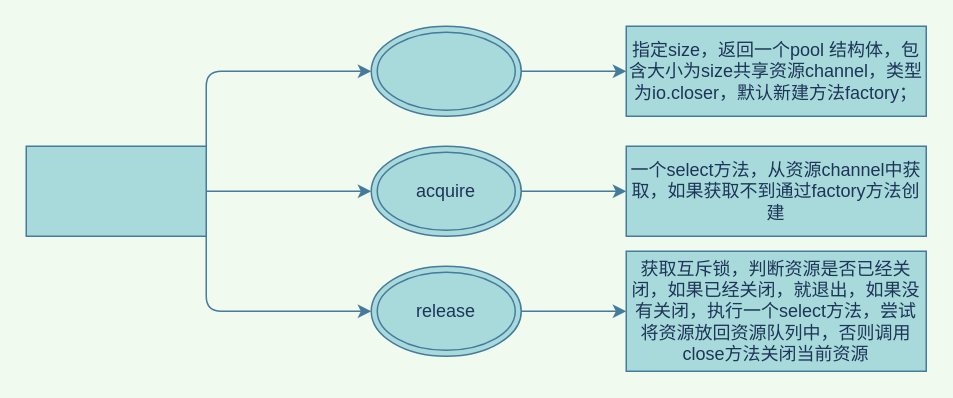
This 953x398 diagram has some shape labels left out. The centre of each missing label's shape, as x and y in pixels:
new: the point at 445,70
pool: the point at 115,190
